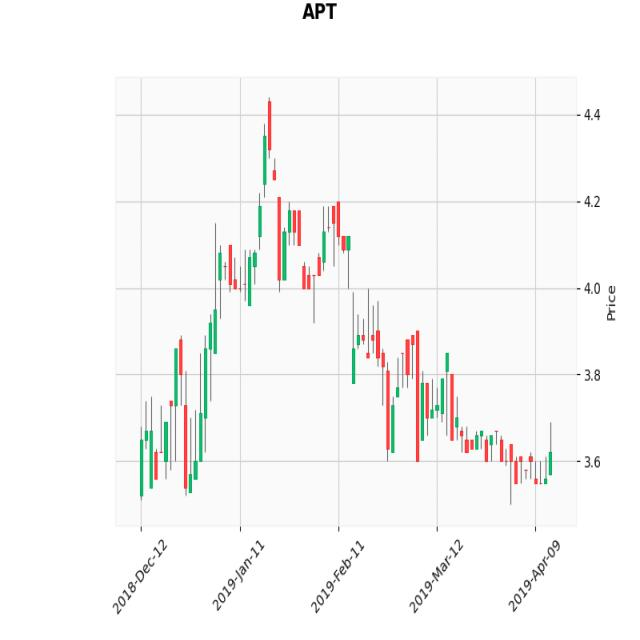Double-Bottom: (373, 310, 456, 462)
Head-Shoulders: (201, 100, 363, 328)
